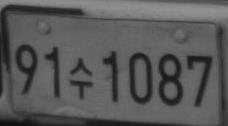0: (127, 51, 153, 104)
1: (99, 50, 124, 102), (42, 46, 67, 97)
7: (186, 54, 213, 107)
8: (157, 53, 183, 106)
9: (14, 43, 38, 94)
수: (70, 57, 93, 100)
